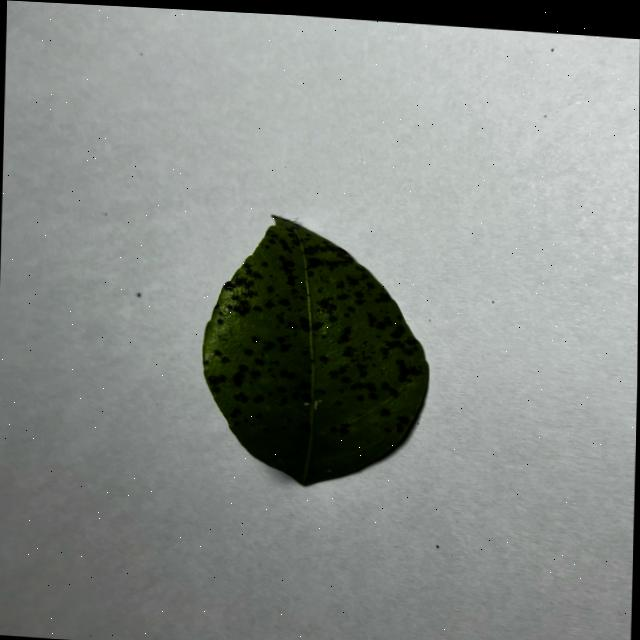sooty_mold: (201, 216, 426, 484)
